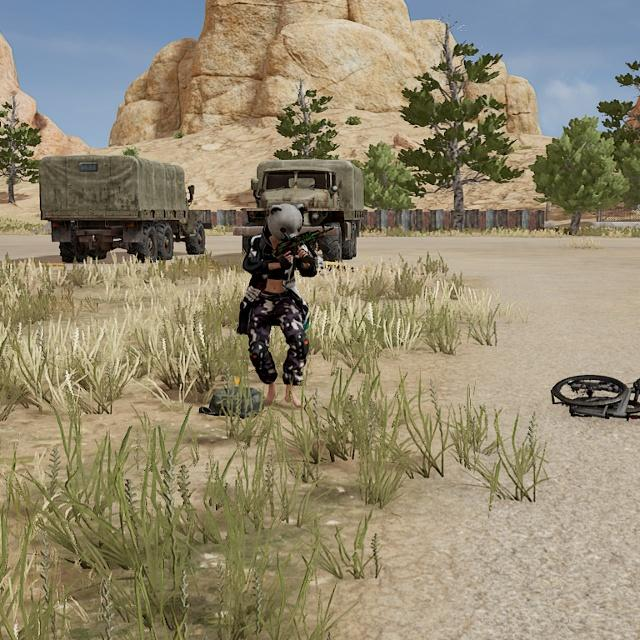head: (267, 202, 304, 242)
people: (242, 201, 319, 409)
